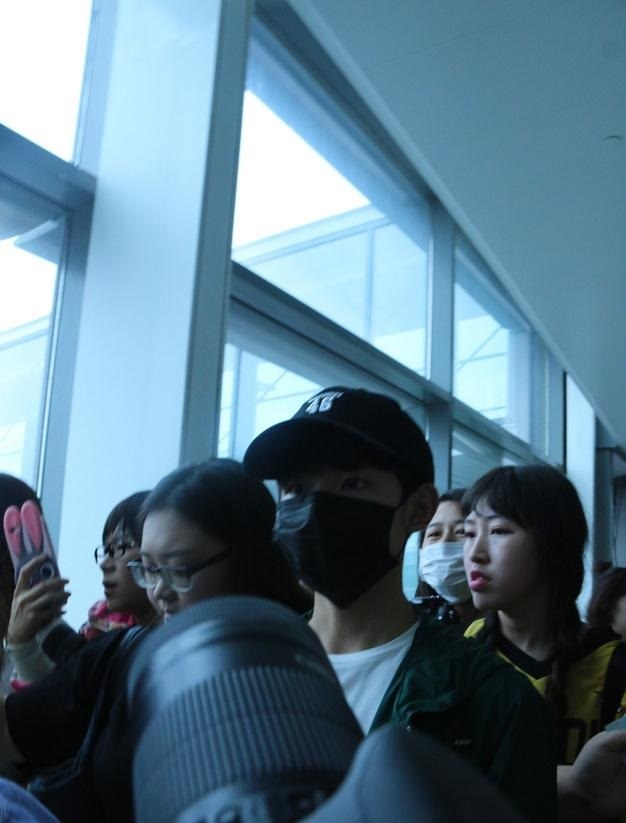face: (141, 514, 229, 642), (463, 492, 538, 607), (95, 513, 145, 607)
face_mask: (281, 445, 400, 601), (414, 500, 468, 597)
